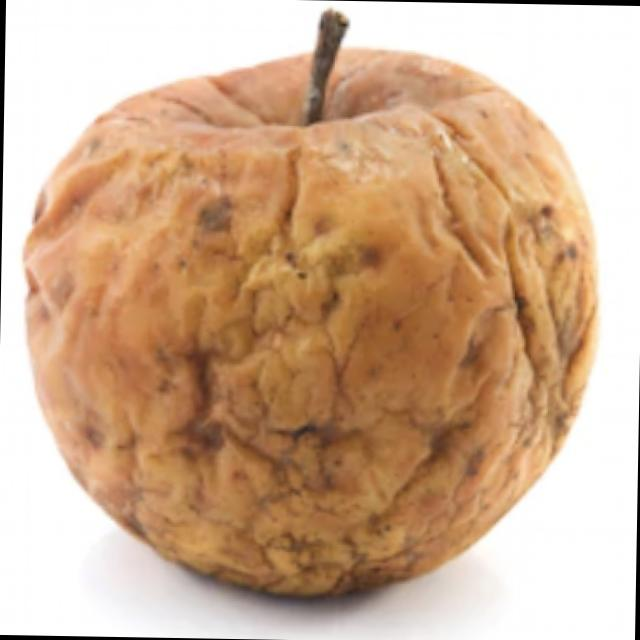rotten_apple: (16, 16, 606, 613)
